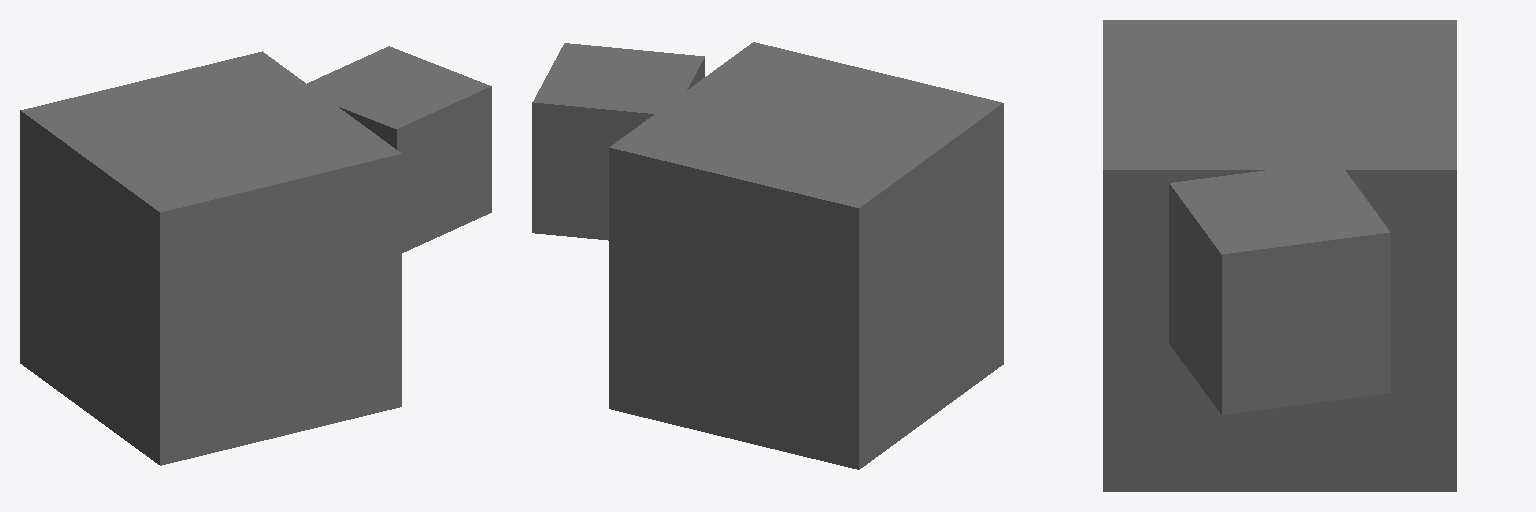
robot.urdf — joint_fixed:
<?xml version="1.0"?>
<robot name="joint_fixed">
  <material name="builder_color_1">
    <color rgba="0.5 0.5 0.5 1"/>
  </material>
  <link name="base_link">
    <inertial>
      <origin xyz="0 0 0"/>
      <mass value="2"/>
      <inertia ixx="0.013333333333333336" ixy="0" ixz="0" iyy="0.013333333333333336" iyz="0" izz="0.013333333333333336"/>
    </inertial>
    <visual>
      <geometry><box size="0.2 0.2 0.2"/></geometry>
      <material name="builder_color_1"/>
    </visual>
    <collision>
      <geometry><box size="0.2 0.2 0.2"/></geometry>
    </collision>
  </link>
  <link name="child_link">
    <inertial>
      <origin xyz="0 0 0"/>
      <mass value="0.5"/>
      <inertia ixx="0.0008333333333333335" ixy="0" ixz="0" iyy="0.0008333333333333335" iyz="0" izz="0.0008333333333333335"/>
    </inertial>
    <visual>
      <geometry><box size="0.1 0.1 0.1"/></geometry>
      <material name="builder_color_1"/>
    </visual>
    <collision>
      <geometry><box size="0.1 0.1 0.1"/></geometry>
    </collision>
  </link>
  <joint name="child_joint" type="fixed">
    <parent link="base_link"/>
    <child link="child_link"/>
    <origin xyz="0.15 0 0.05" rpy="0 0 0.3"/>
  </joint>
</robot>

--- What the picture shows (computed from the rendered views, not written in the file) ---
The picture shows the robot from 3 angles, left to right: view 1: azimuth 30°, elevation 25°; view 2: azimuth 150°, elevation 25°; view 3: azimuth 270°, elevation 25°; orthographic projection.
Model joint_fixed with 2 links and 1 joints (1 fixed), rooted at base_link, posed every joint at zero.
Links seen in each view (by area): view 1: base_link, child_link; view 2: base_link, child_link; view 3: base_link, child_link.
Boxes of the visible links, x1,y1,x2,y2 form: base_link: [20, 51, 401, 465]; child_link: [294, 46, 491, 252]; base_link: [609, 42, 1003, 469]; child_link: [532, 43, 704, 240]; base_link: [1103, 20, 1456, 491]; child_link: [1169, 161, 1390, 414].
Bounding box of the posed robot: 0.3125 × 0.2 × 0.2 m (x, y, z).
Geometry: primitives only (box / cylinder / sphere), no mesh files.
